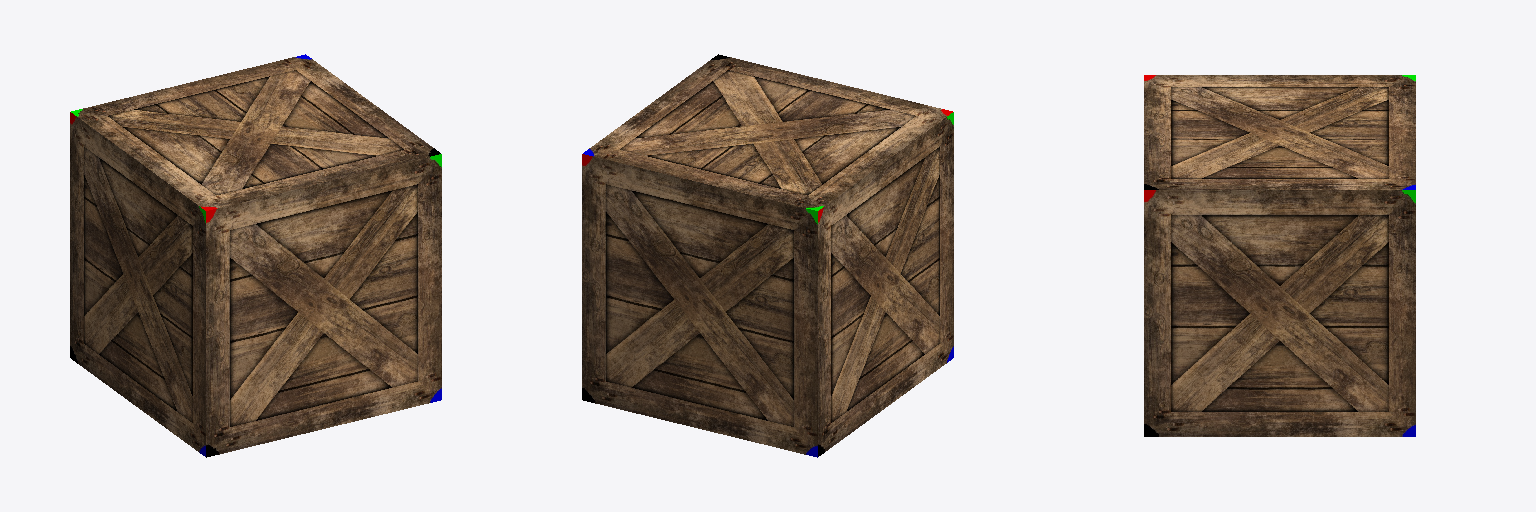
3 renders of one model, left to right at view 1: azimuth 30°, elevation 25°; view 2: azimuth 150°, elevation 25°; view 3: azimuth 270°, elevation 25°, orthographic.
Visible parts, largest first — view 1: Cube; view 2: Cube; view 3: Cube.
Boxes of the visible parts, <box> form: Cube: <box>70,54,441,457</box>; Cube: <box>582,54,953,457</box>; Cube: <box>1144,75,1415,436</box>.
Size of the model in its own units: 2 by 2 by 2.
1 materials, 1 textured.